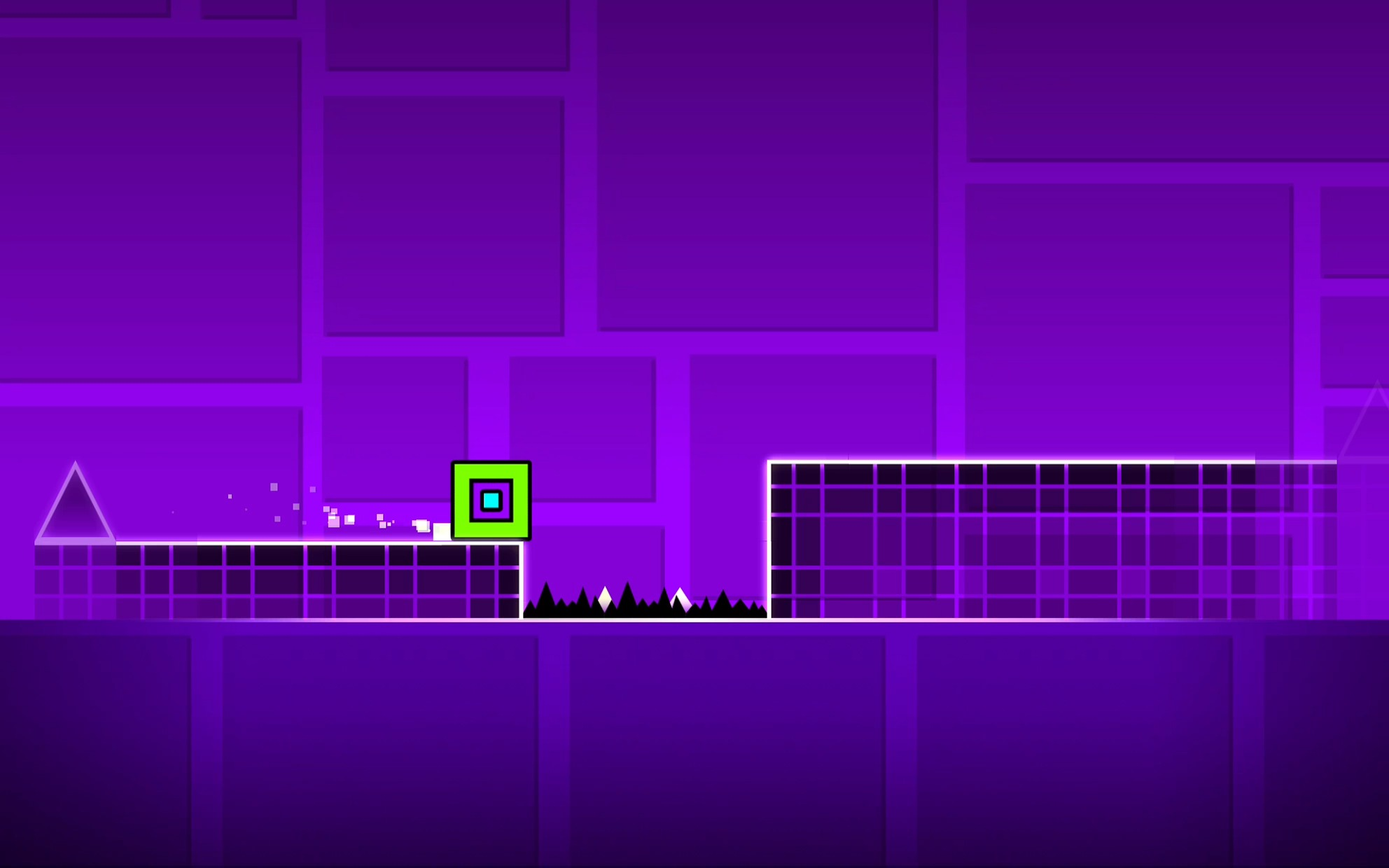Block2: (769, 458, 1359, 615), (16, 542, 525, 619)
Player: (451, 459, 531, 538)
Spike: (37, 464, 114, 540)
Spike2: (523, 582, 768, 622)
